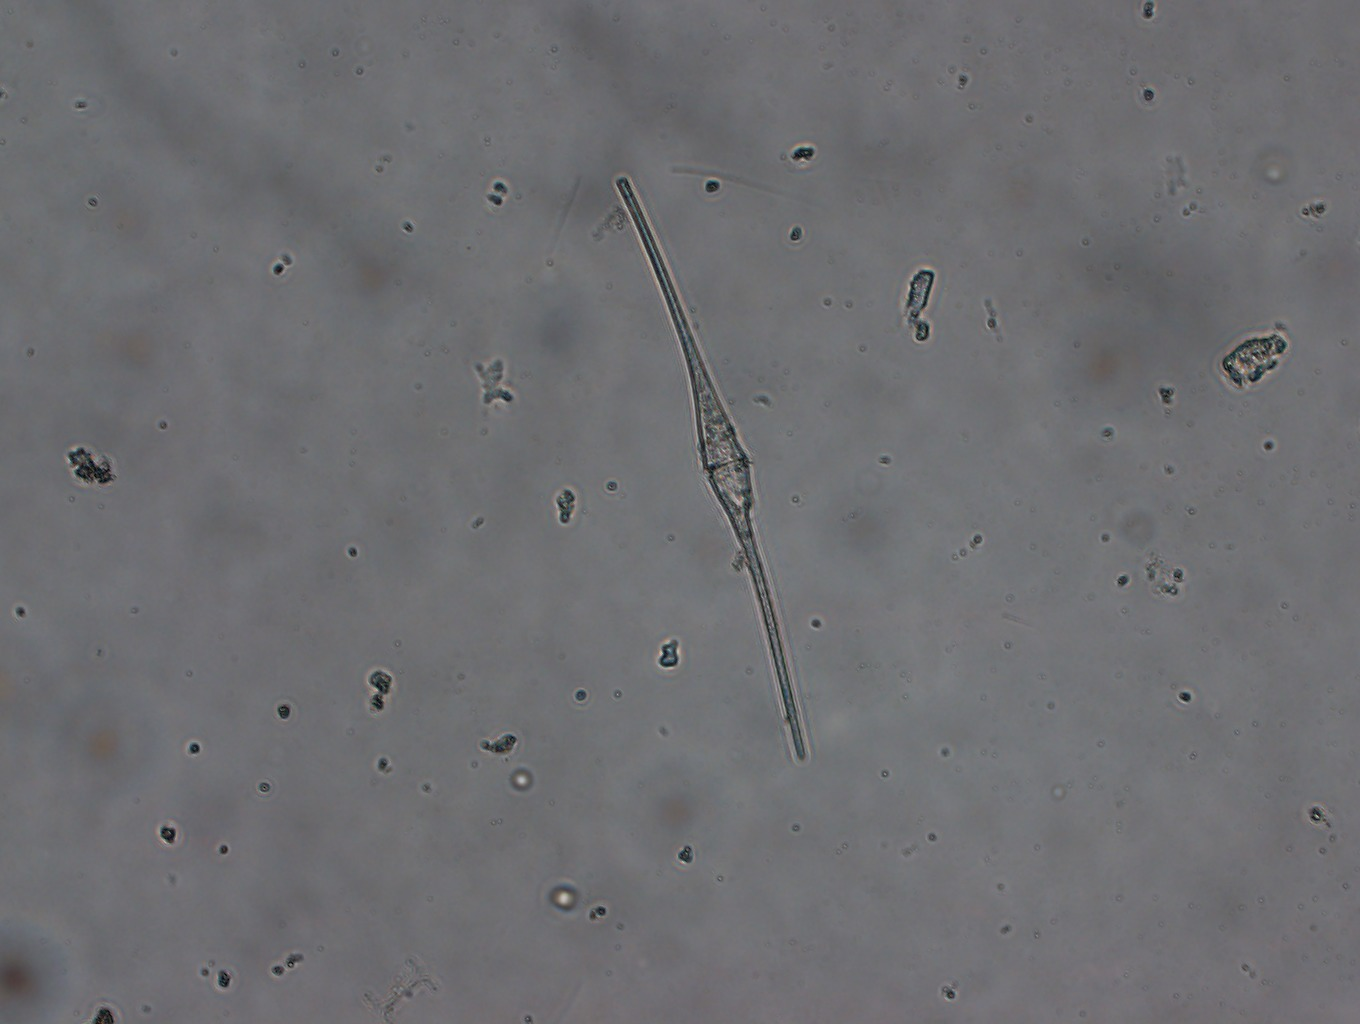ceratium fusus: (614, 173, 810, 767)
